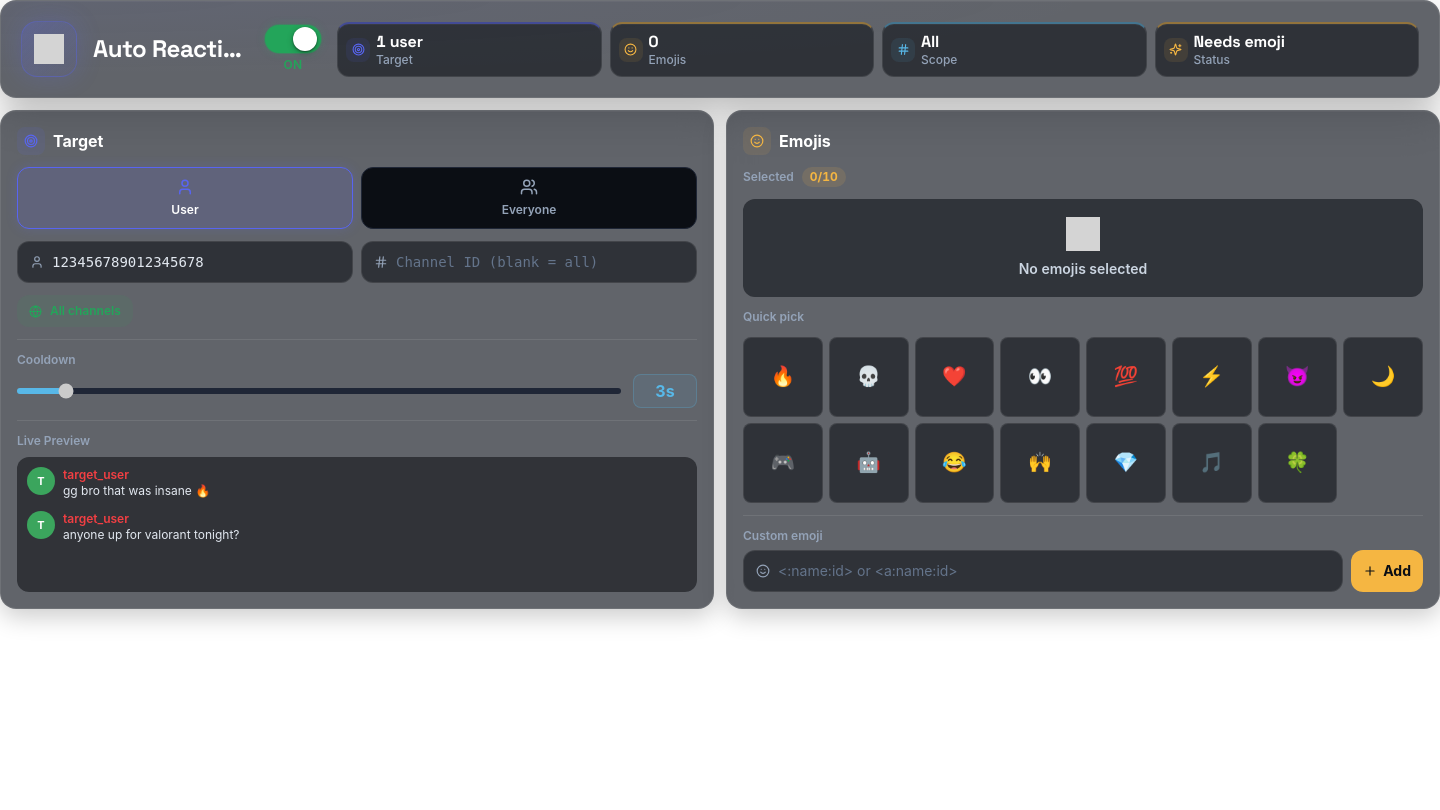
Test: ReactionsFeature emoji palette › rejects empty and malformed custom emoji drafts
Expected: the text "No emojis selected" is shown, [1019,259,1147,279]
Click the button "Add".
click(1387, 570)  # box [1351,550,1423,592]
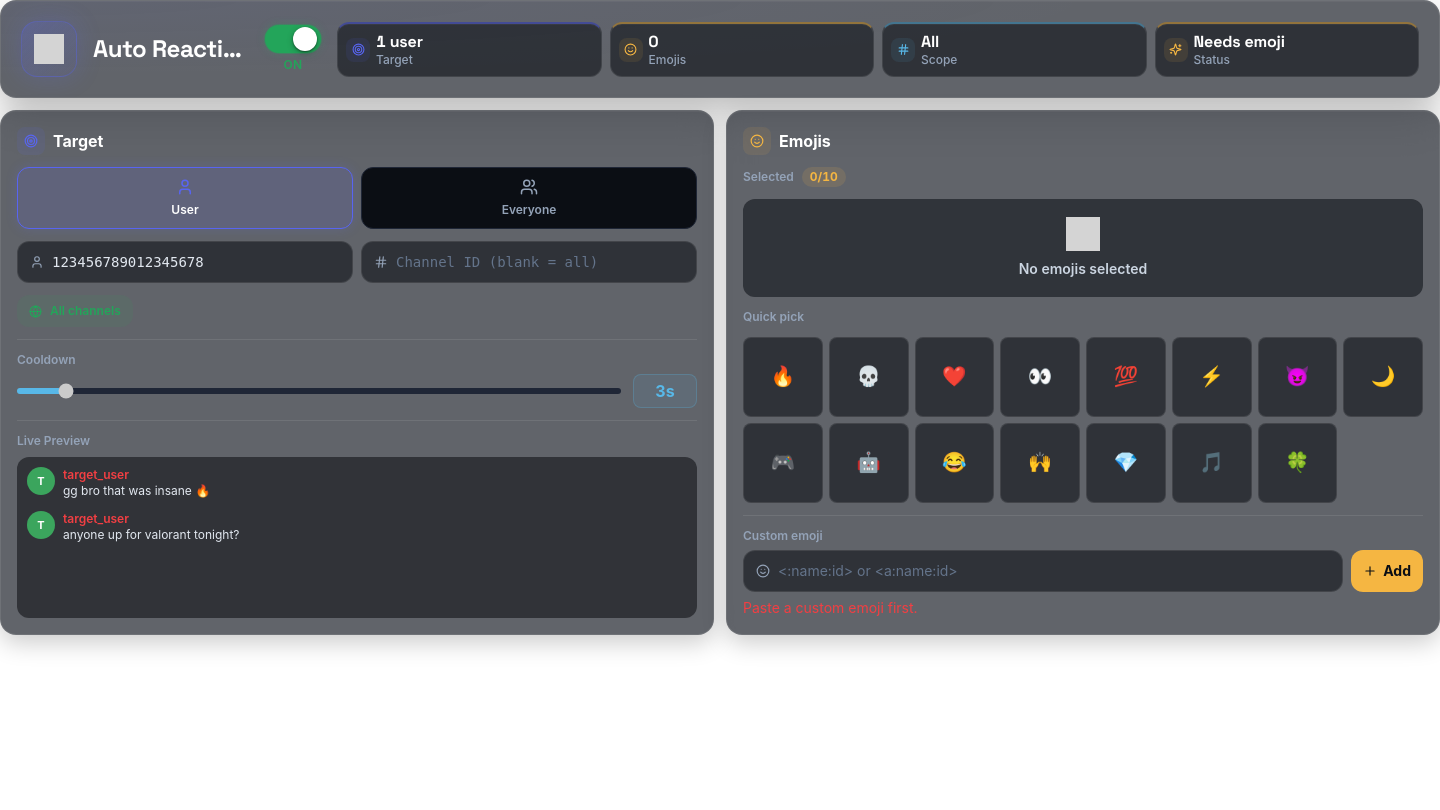
Expected: the text "Paste a custom emoji first." is shown, [743,598,918,616]
Type "not-an-emoji" into the field with placeholder "<:name:id> or <a:name:id>".
click(1054, 570); type("not-an-emoji")  # box [778,550,1330,590]
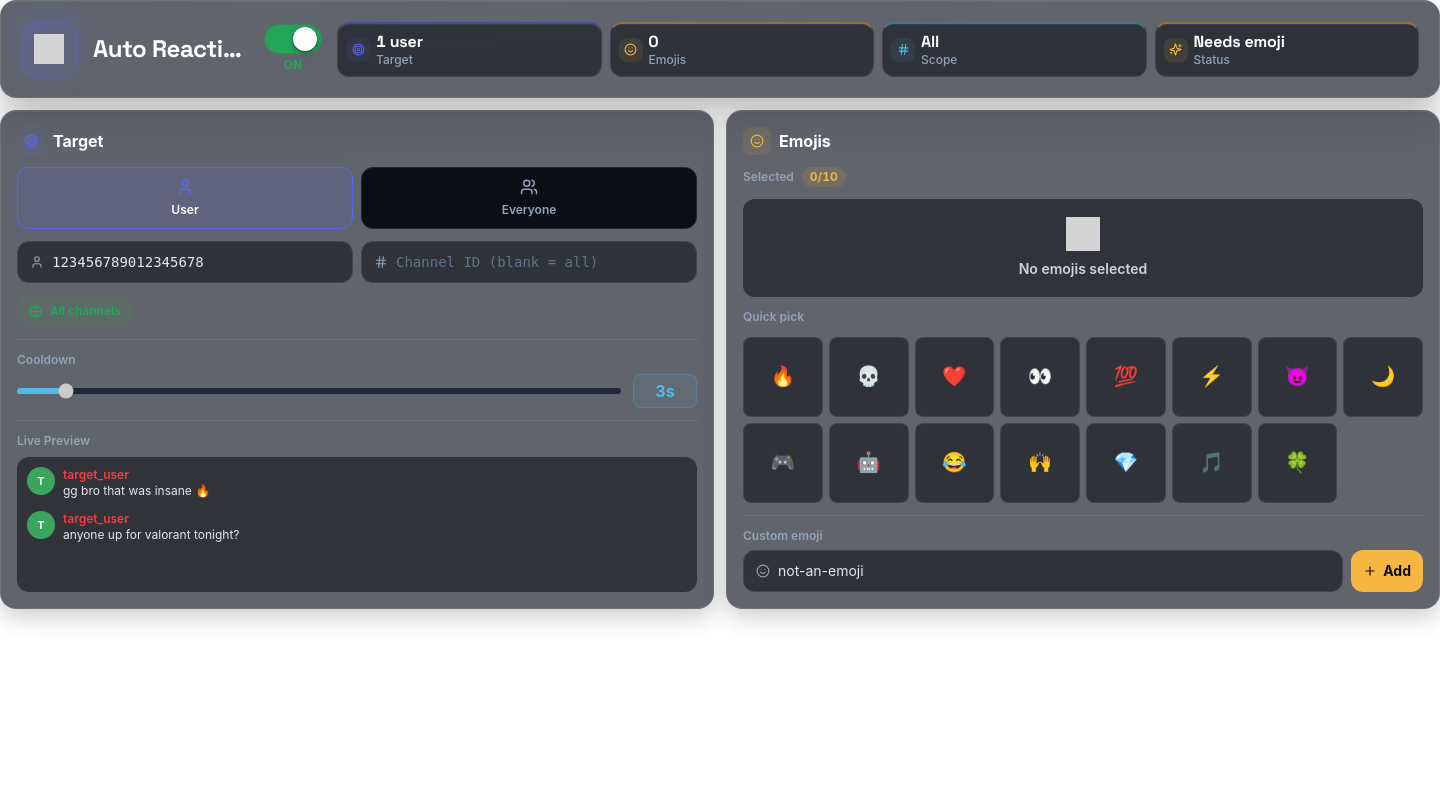
Click the button "Add".
click(1387, 570)  # box [1351,550,1423,592]
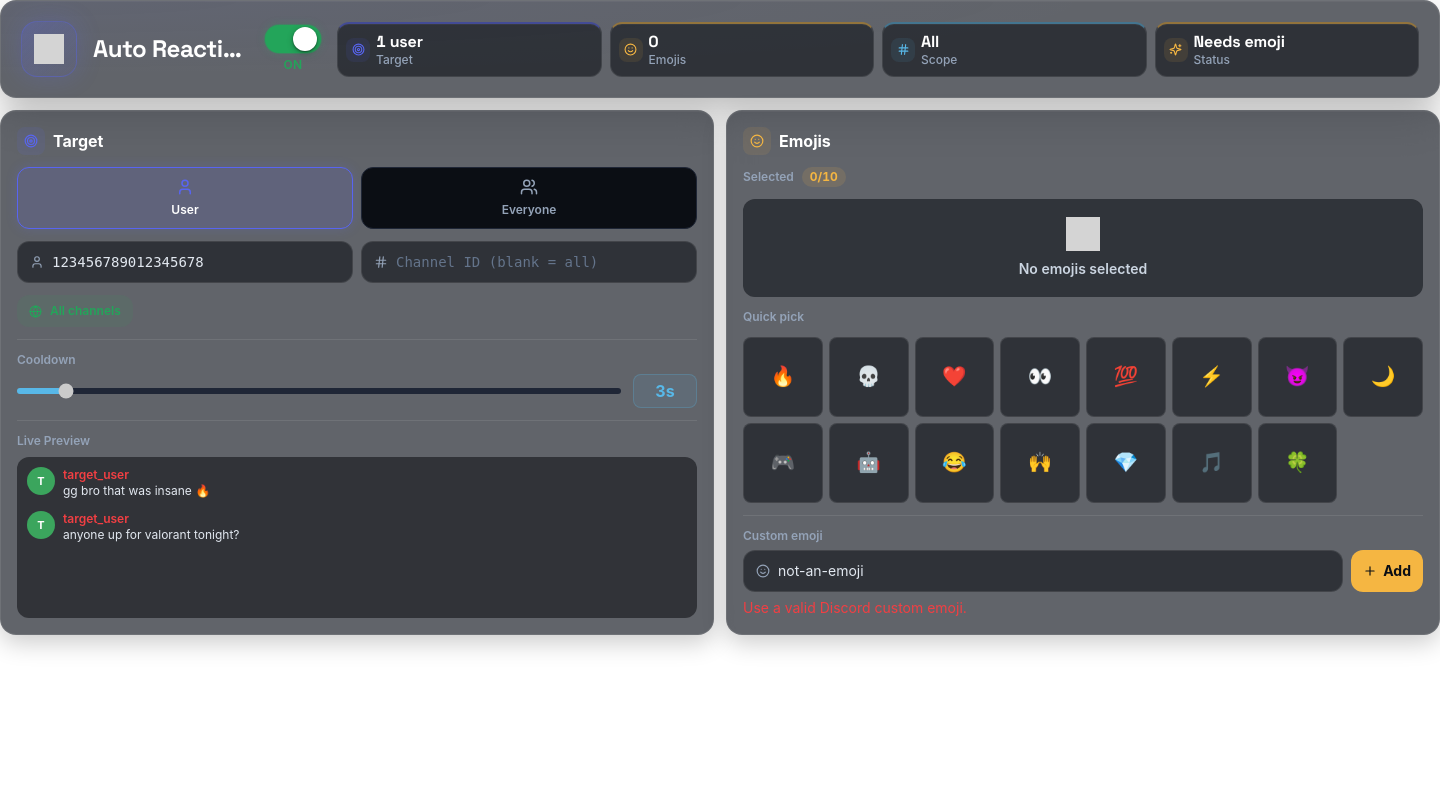
Expected: the text "No emojis selected" is shown, [1019,259,1147,279]
Expected: the text "Use a valid Discord custom emoji." is shown, [743,598,967,616]
